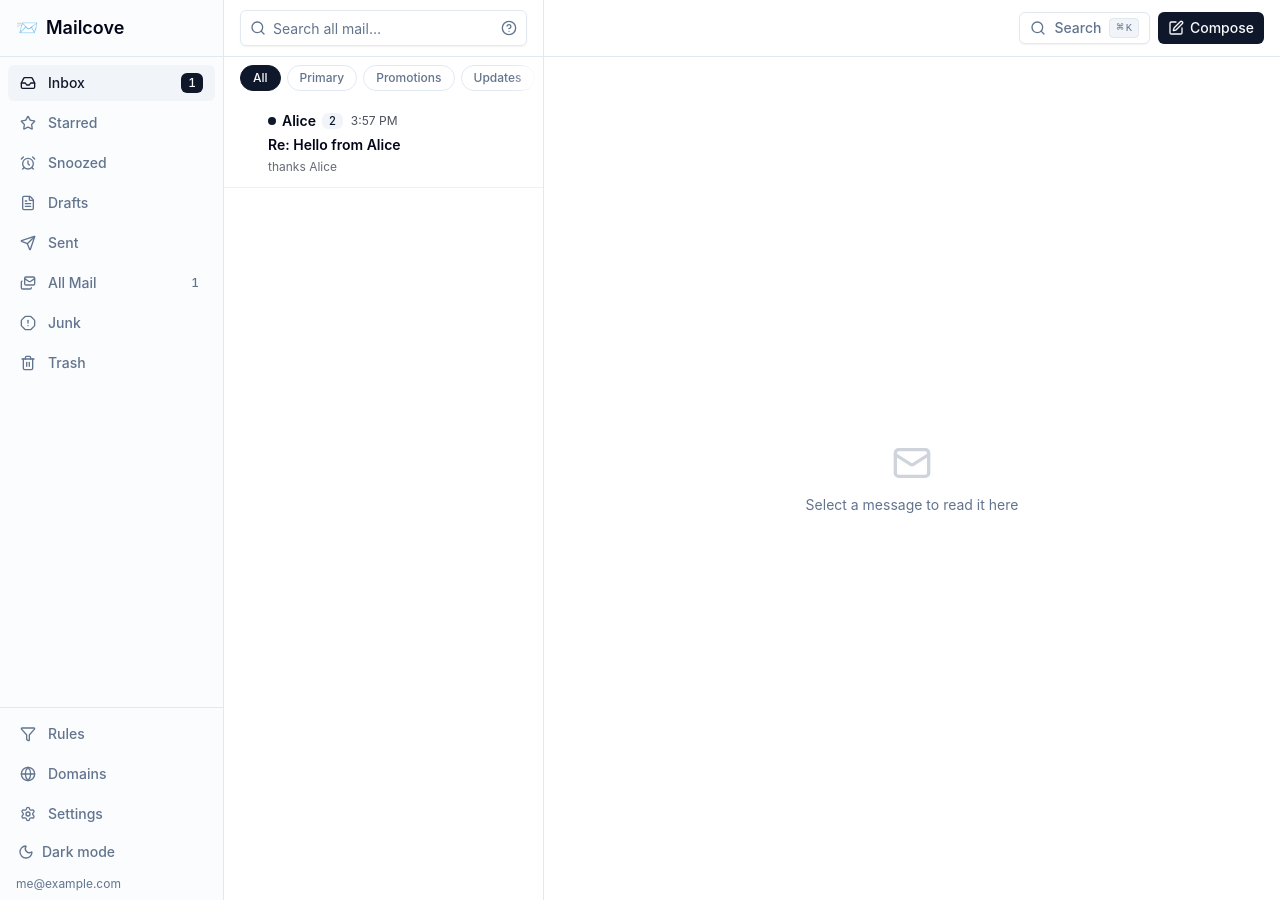
Test: <App/> conversation threading › shows every message body when the conversation is opened
Click the text "Re: Hello from Alice": (334, 145) left=268, top=135, right=401, bottom=155
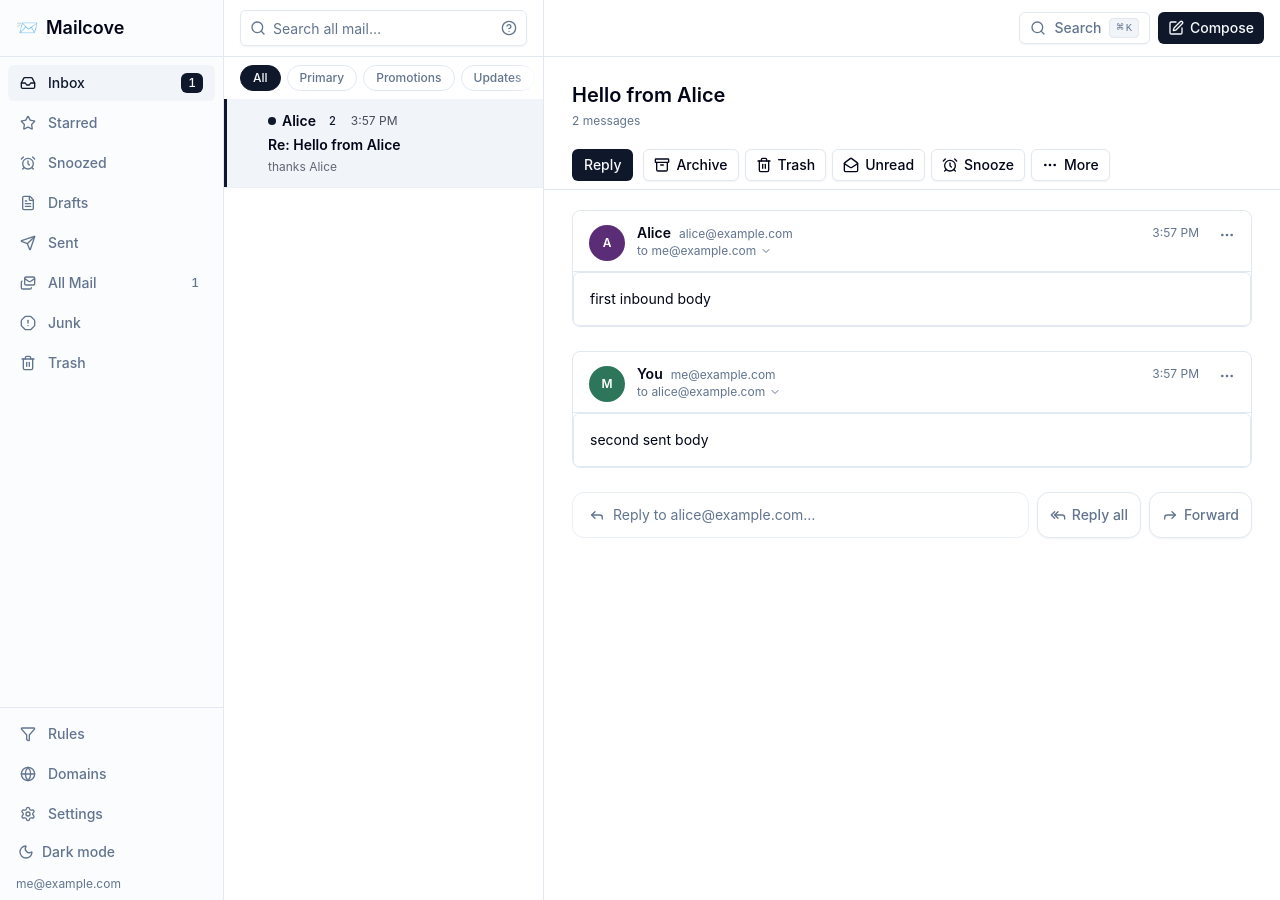
Expected: the text "first inbound body" is shown, left=590, top=290, right=711, bottom=307
Expected: the text "second sent body" is shown, left=590, top=431, right=708, bottom=448
